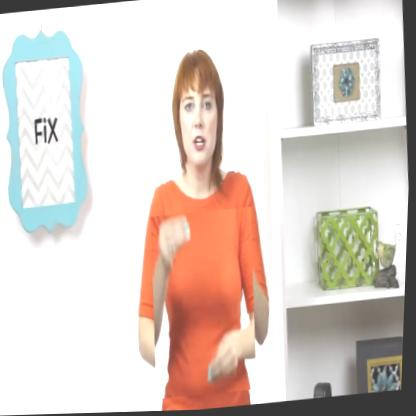Fix: (147, 208, 265, 401)
